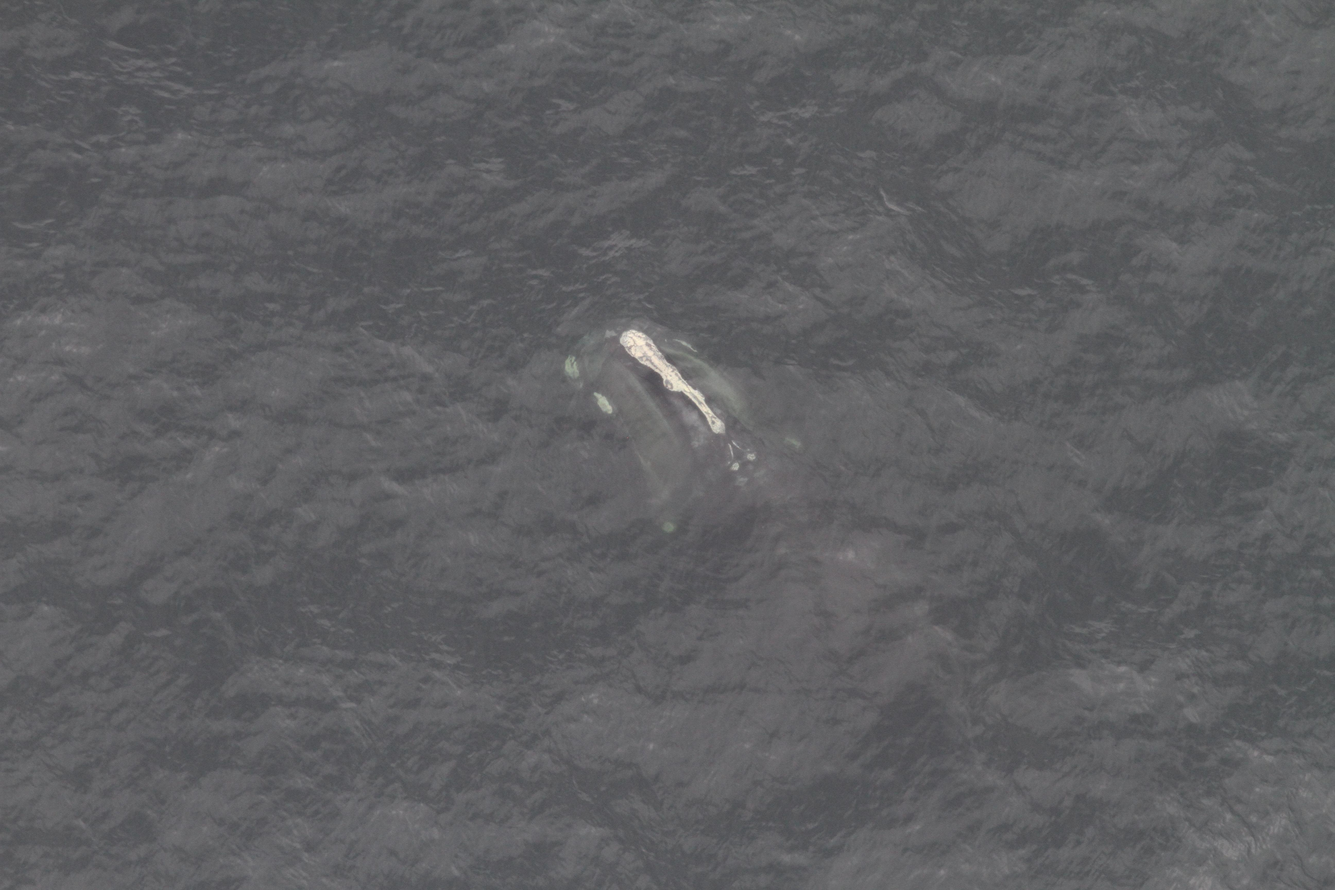whale: (559, 304, 837, 575)
